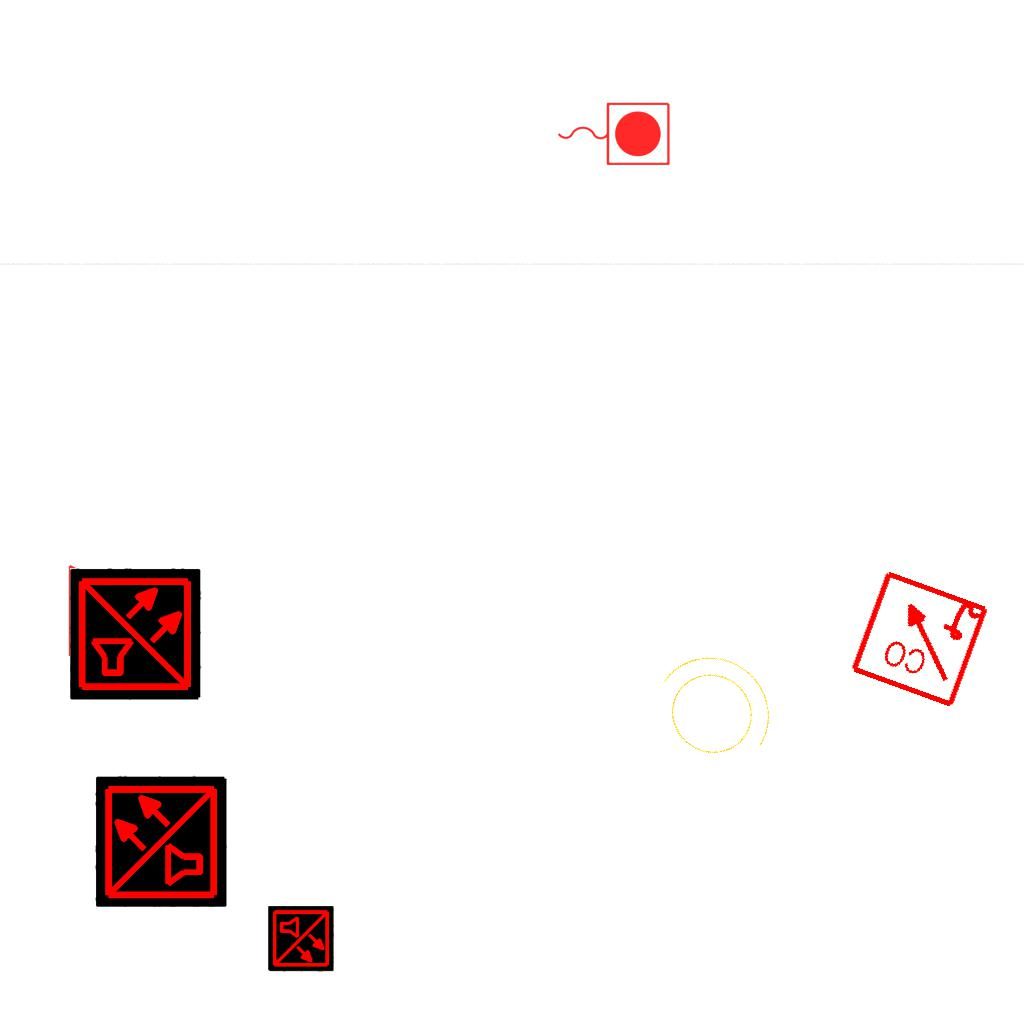OKW_Multisensormelder_(Kombination_optischer_Rauch-Kahlenmonoxid_Waerme-Melder): (95, 775, 227, 907), (70, 568, 202, 700), (268, 906, 334, 972)
ROA_Rauchmelder_optisch_mit_Signalgeber_(Sockelsirene): (847, 565, 992, 710)
Scheinwerfer_fuer_Alarmbeleuchtung: (625, 624, 799, 792)
Zimmersignalleuchte: (61, 561, 161, 659)
Zugtaster: (552, 97, 674, 169)
